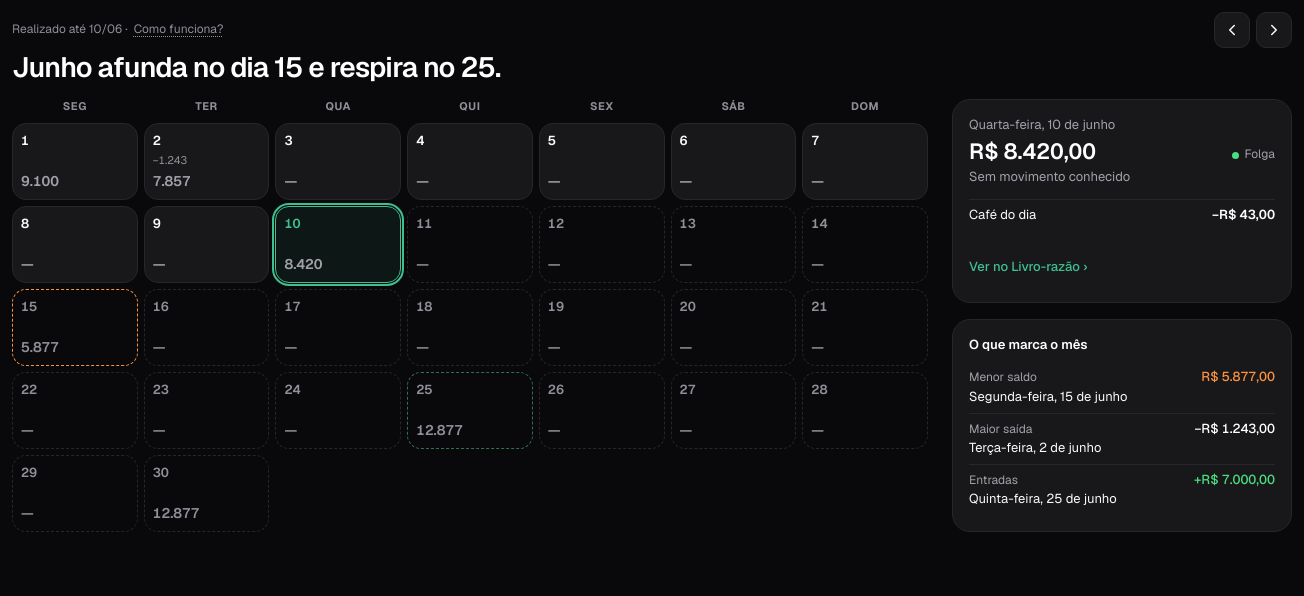
Test: YearGridScreen (Calendário) › tocar um dia move a agenda para ele
This screenshot has width=1304, height=596.
Click the cell named "15 de junho". click: {"x": 75, "y": 327}
box: [12,289,138,366]
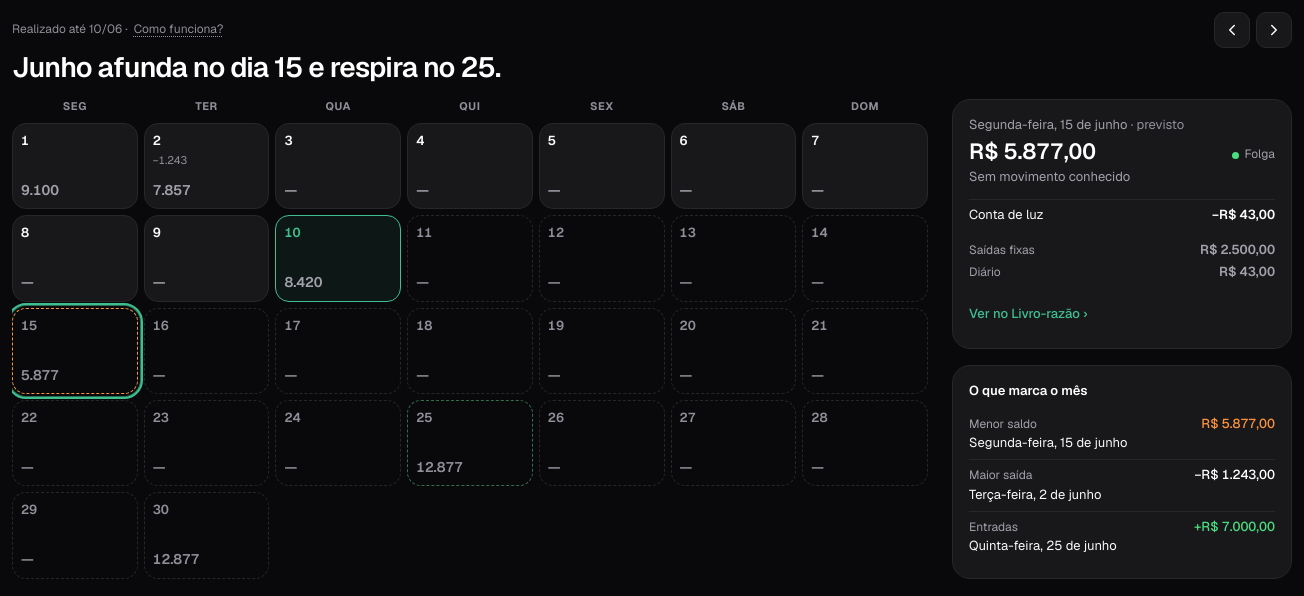
Result: the heading "Segunda-feira, 15 de junho · previsto" is shown at [969,116,1184,133]
Result: the text "Conta de luz" is shown at [969,206,1044,224]
Result: the text "· previsto" is shown at [1128,116,1184,133]
